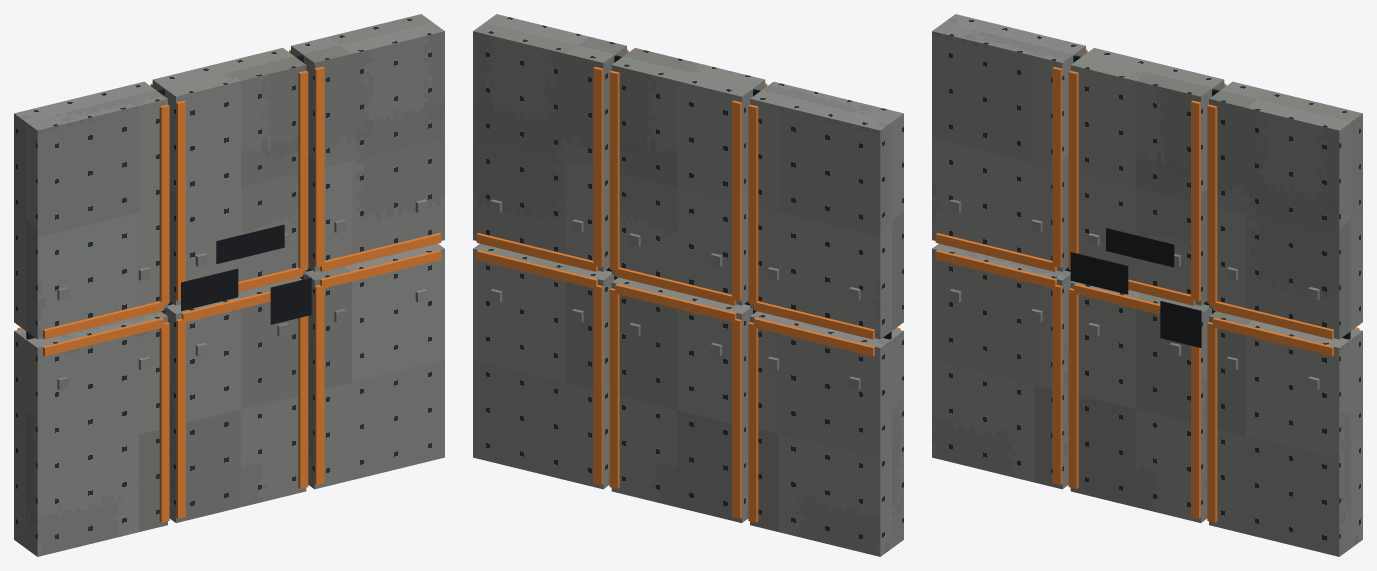
The model's file is ir_impact_seal.glb.
3 views of the same model, side by side, from view 1: azimuth 30°, elevation 25°; view 2: azimuth 150°, elevation 25°; view 3: azimuth 330°, elevation 25° (orthographic).
Parts seen in each view (by area): view 1: slab_4_mesh, slab_1_mesh, slab_6_mesh, slab_5_mesh, slab_3_mesh, slab_2_mesh, scuff_1, scuff_3, scuff_2; view 2: slab_4_mesh, slab_1_mesh, slab_5_mesh, slab_6_mesh, slab_2_mesh, slab_3_mesh; view 3: slab_6_mesh, slab_3_mesh, slab_4_mesh, slab_5_mesh, slab_1_mesh, slab_2_mesh, scuff_1, scuff_3, scuff_2.
Boxes of the visible parts, <box> form: slab_4_mesh: <box>14,81,169,339</box>; slab_1_mesh: <box>14,311,169,556</box>; slab_6_mesh: <box>289,14,444,271</box>; slab_5_mesh: <box>150,48,308,305</box>; slab_3_mesh: <box>303,243,444,489</box>; slab_2_mesh: <box>165,277,308,522</box>; scuff_1: <box>181,268,238,310</box>; scuff_3: <box>216,224,284,263</box>; scuff_2: <box>270,277,311,324</box>; slab_4_mesh: <box>748,81,903,339</box>; slab_1_mesh: <box>748,311,903,556</box>; slab_5_mesh: <box>609,48,767,305</box>; slab_6_mesh: <box>473,14,628,271</box>; slab_2_mesh: <box>609,277,752,522</box>; slab_3_mesh: <box>473,243,614,489</box>; slab_6_mesh: <box>1207,81,1362,339</box>; slab_3_mesh: <box>1207,311,1362,556</box>; slab_4_mesh: <box>932,14,1087,271</box>; slab_5_mesh: <box>1068,48,1226,305</box>; slab_1_mesh: <box>932,243,1071,489</box>; slab_2_mesh: <box>1068,281,1211,522</box>; scuff_1: <box>1070,252,1128,294</box>; scuff_3: <box>1106,228,1174,267</box>; scuff_2: <box>1160,301,1201,347</box>.
Bounding box in the file's own units: 3 × 3 × 0.36.
Materials: 4 (4 with a texture image).
